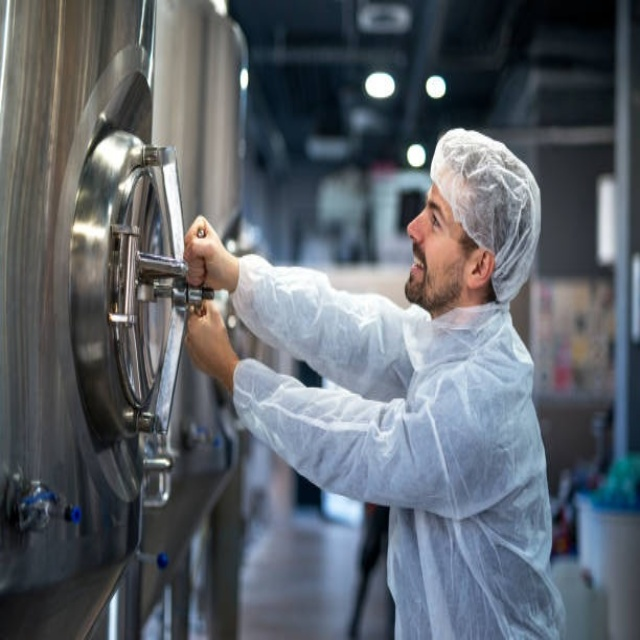Sin_gafas: (419, 187, 459, 245)
Sin_guantes: (182, 294, 234, 384), (184, 216, 231, 293)
Sin_mascara: (401, 231, 436, 298)
